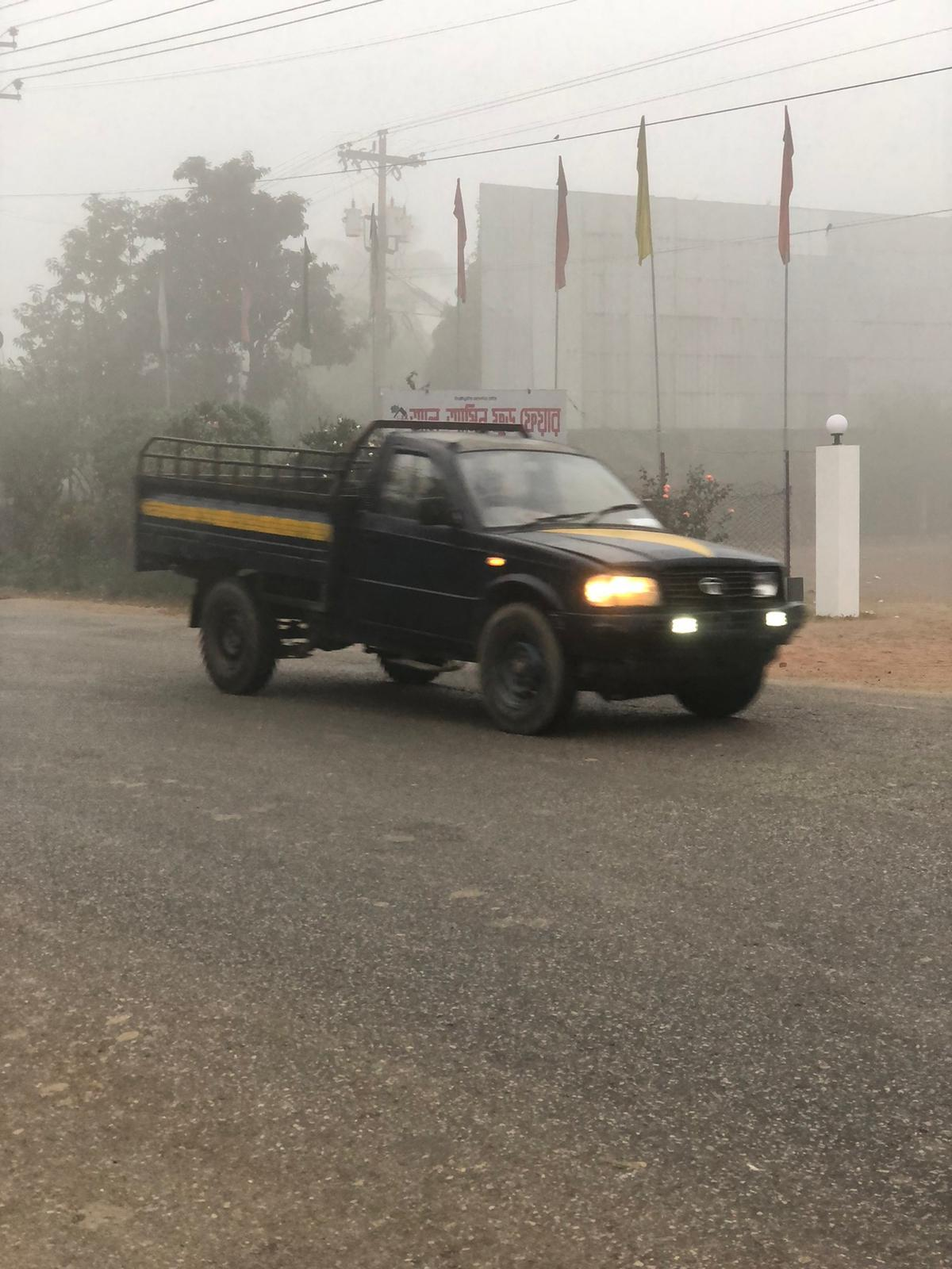Truck: (93, 361, 835, 776)
